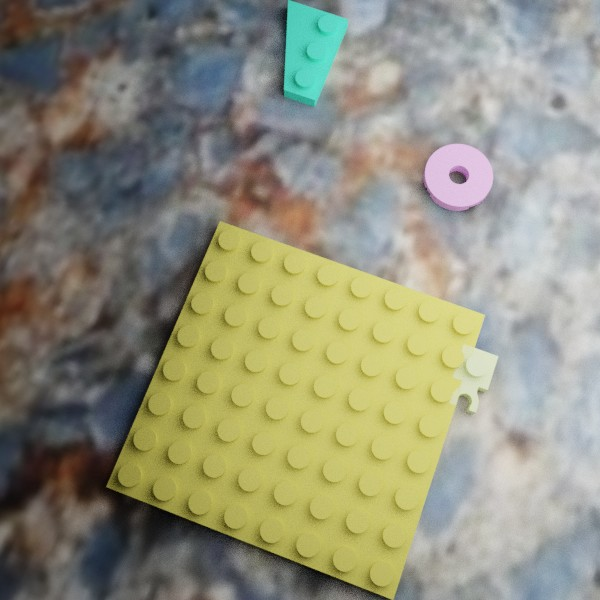lego: (106, 221, 485, 600), (284, 0, 348, 106), (423, 143, 493, 211), (446, 343, 498, 414)
